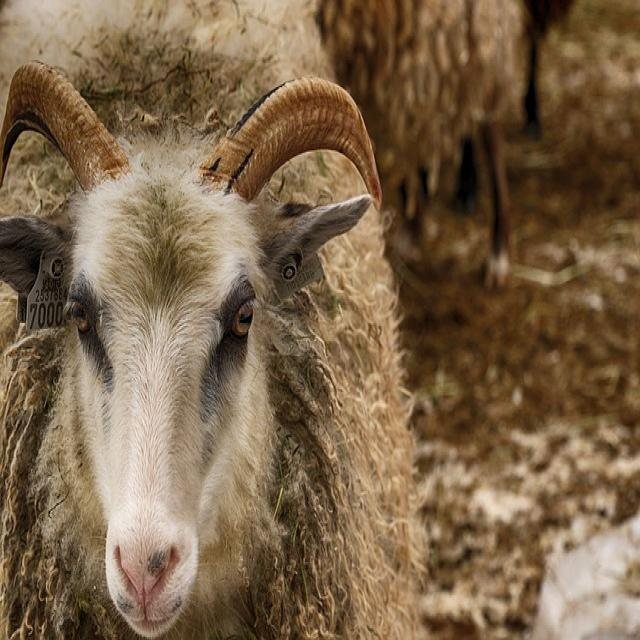sheep: (0, 59, 429, 638), (313, 0, 572, 288)
